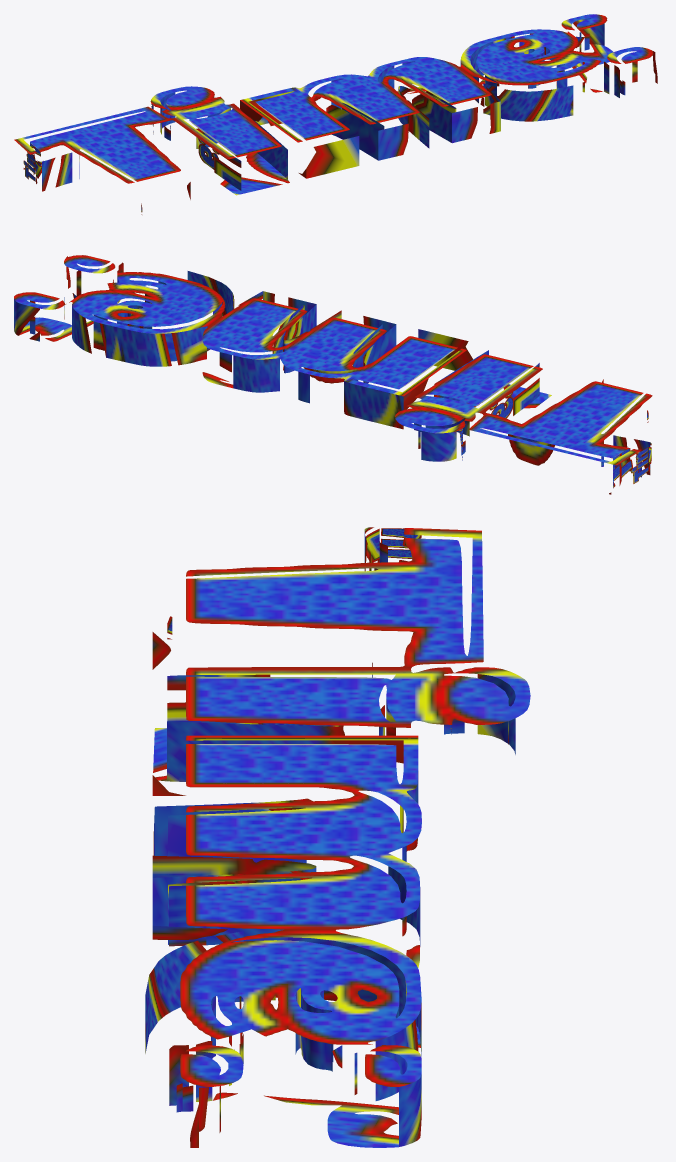
File: scoring_time.obj
3 views of the same model, one above another, from view 1: azimuth 30°, elevation 25°; view 2: azimuth 150°, elevation 25°; view 3: azimuth 270°, elevation 25° (orthographic). The views are drawn at different scales.
Parts seen in each view (by area): view 1: OpenSCAD_Model; view 2: OpenSCAD_Model; view 3: OpenSCAD_Model.
Boxes of the visible parts, bbox=[...] form: OpenSCAD_Model: bbox=[14, 14, 657, 214]; OpenSCAD_Model: bbox=[14, 255, 652, 494]; OpenSCAD_Model: bbox=[145, 527, 530, 1147].
Size of the model in its own units: 20 by 1 by 5.81.
Materials: 1 (1 with a texture image).
